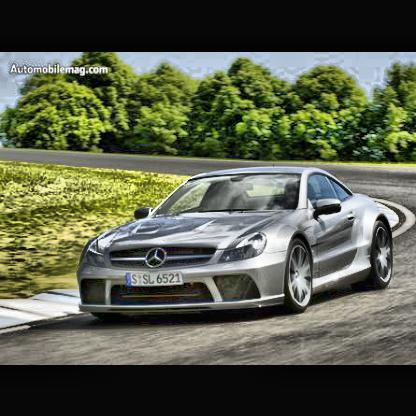Mercedes-Benz SL-Class Coupe 2009: (76, 167, 392, 325)
